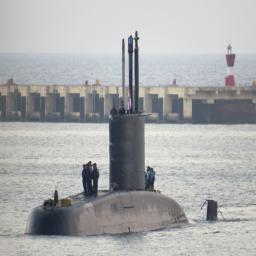submarine: (24, 27, 226, 237)
